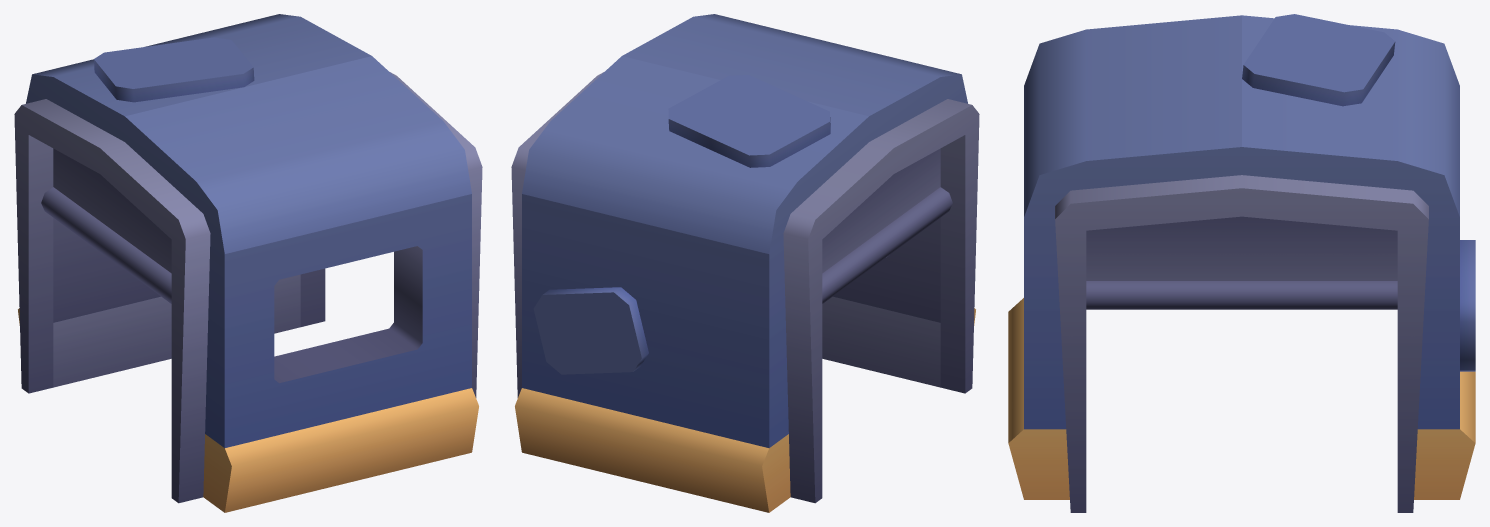
File: kenney-machine.glb
The picture shows the model from 3 angles, left to right: view 1: azimuth 30°, elevation 25°; view 2: azimuth 150°, elevation 25°; view 3: azimuth 270°, elevation 25°; orthographic projection. The views are drawn at different scales.
Parts seen in each view (by area): view 1: machine; view 2: machine; view 3: machine.
Part boxes in pixels (left/top/right/bottom): machine: left=14, top=14, right=482, bottom=512; machine: left=511, top=14, right=979, bottom=512; machine: left=1008, top=14, right=1475, bottom=512.
Size of the model in its own units: 1.2 by 1.3 by 1.5.
Materials: 1 (1 with a texture image).
